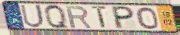O: (135, 6, 161, 30)
P: (112, 5, 136, 30)
Q: (43, 3, 72, 30)
R: (65, 5, 93, 29)
T: (91, 5, 109, 30)
U: (19, 4, 46, 29)
